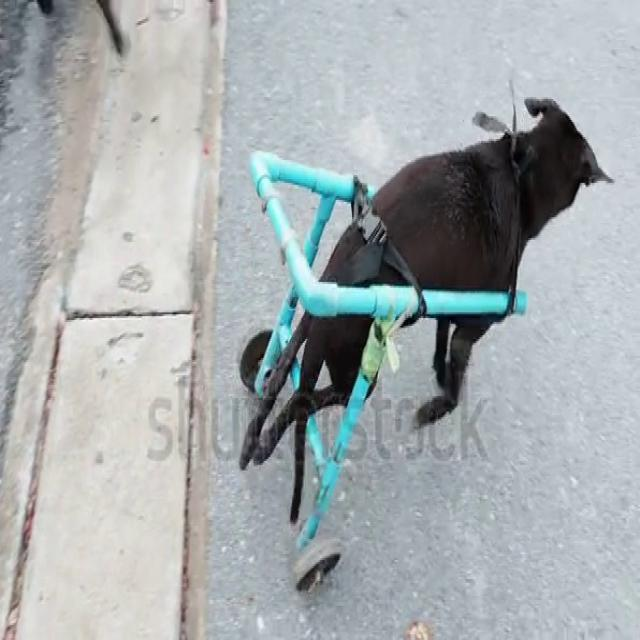injured-animals: (187, 103, 570, 615)
